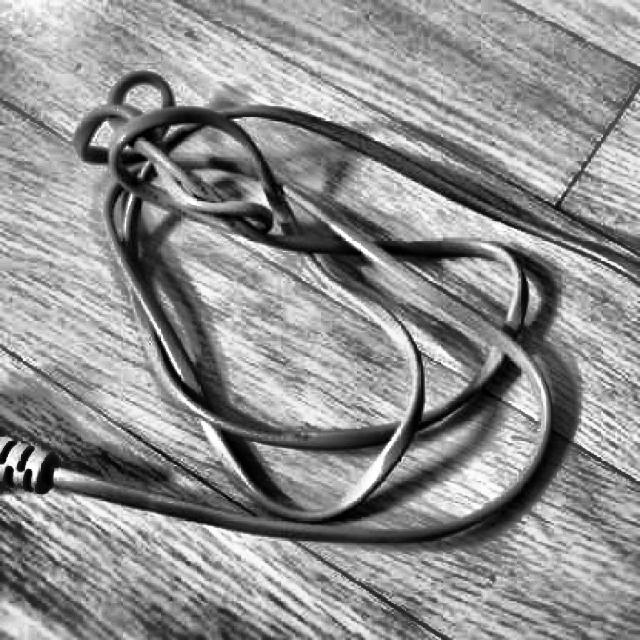Cable: (0, 70, 640, 544)
